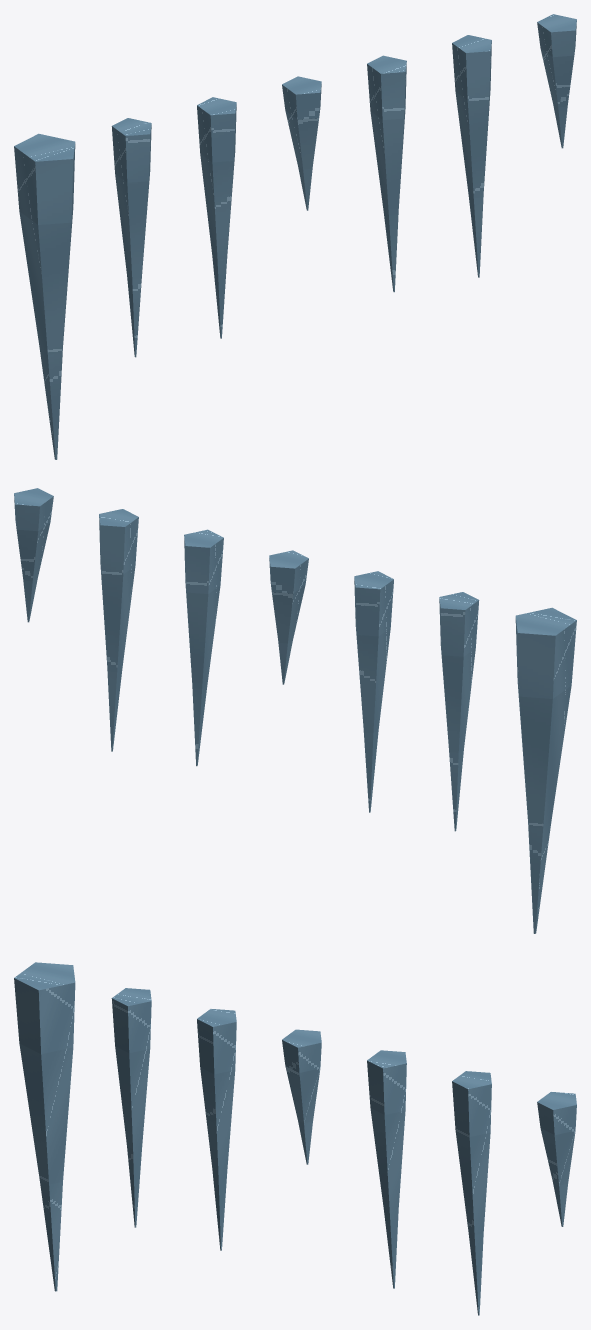
File: icicle_cluster_mixed.glb
3 views of the same model, one above another, from view 1: azimuth 30°, elevation 25°; view 2: azimuth 150°, elevation 25°; view 3: azimuth 330°, elevation 25° (orthographic).
Visible parts, largest first — view 1: icicle_cluster_mixed; view 2: icicle_cluster_mixed; view 3: icicle_cluster_mixed.
Part boxes in pixels (x1,y1,x2,y2): icicle_cluster_mixed: (14,14,576,459); icicle_cluster_mixed: (14,488,576,933); icicle_cluster_mixed: (14,962,576,1315).
Bounding box in the file's own units: 1.2 × 0.65 × 0.13.
1 material, 1 textured.
